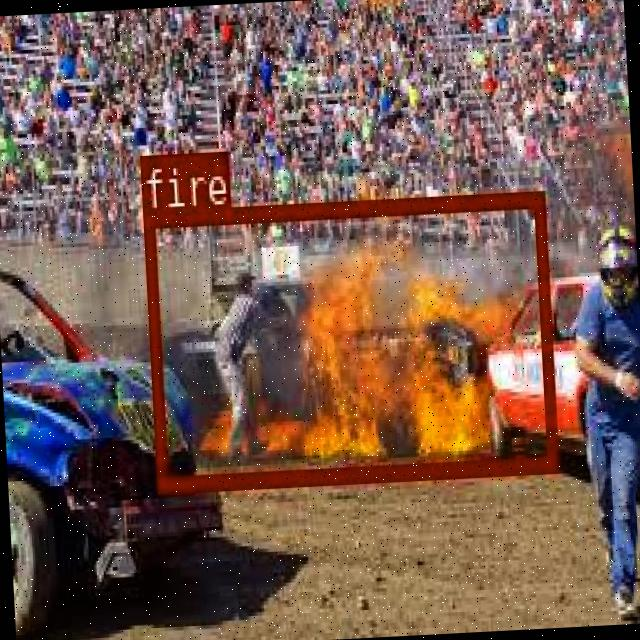fire: (142, 190, 556, 490)
